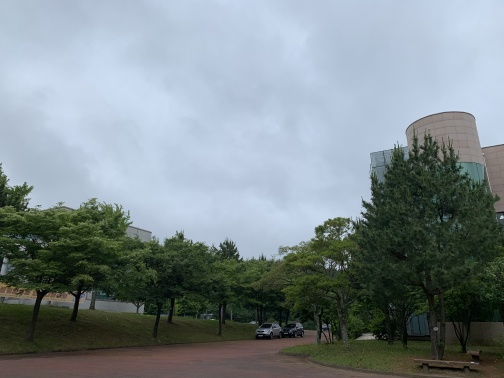Joint Experimental Labs: (359, 99, 504, 183)
Second Library: (126, 220, 154, 241)
